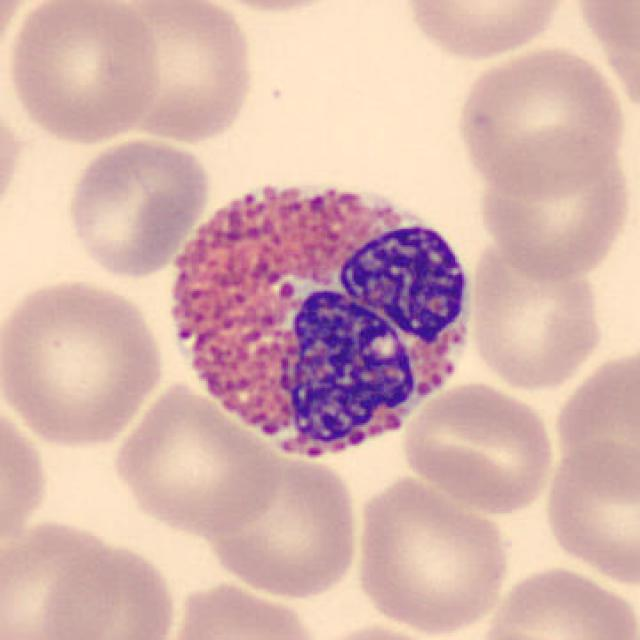Eosinophil: (148, 153, 492, 483)
RBC: (0, 274, 169, 452), (106, 379, 284, 540), (450, 42, 629, 200), (350, 472, 514, 636), (199, 450, 365, 601), (474, 132, 636, 286), (1, 0, 163, 146), (60, 132, 214, 280), (464, 238, 608, 395), (108, 0, 259, 146), (398, 379, 558, 515), (538, 432, 640, 589), (0, 515, 126, 640), (547, 340, 640, 507), (471, 562, 640, 640), (396, 0, 575, 63), (158, 578, 324, 640), (0, 390, 52, 571), (565, 0, 640, 125), (0, 93, 27, 233), (0, 0, 50, 74), (296, 620, 451, 640), (188, 0, 358, 16)
